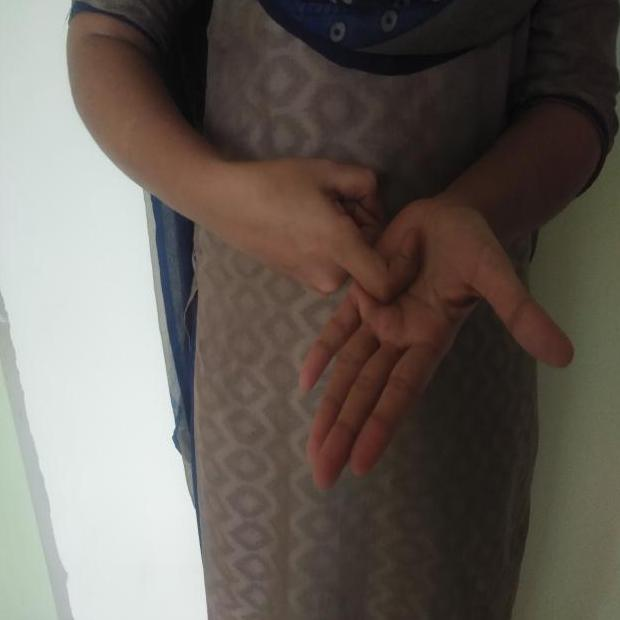Q: (239, 134, 577, 501)
